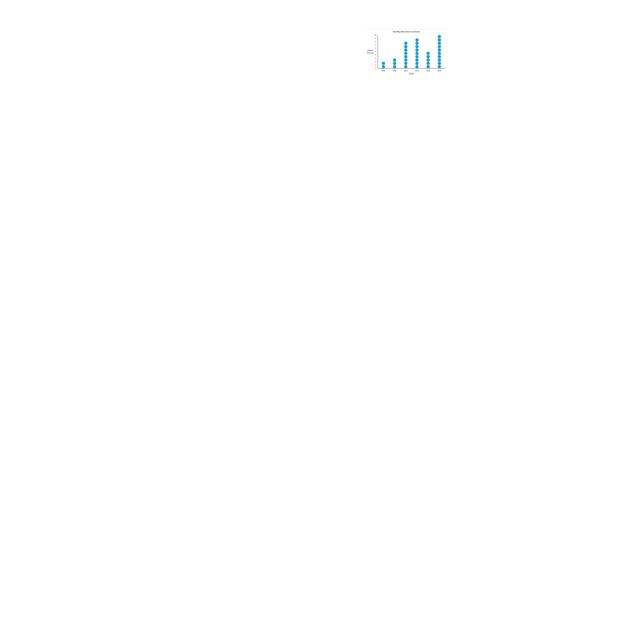Graph: (364, 28, 447, 77)
